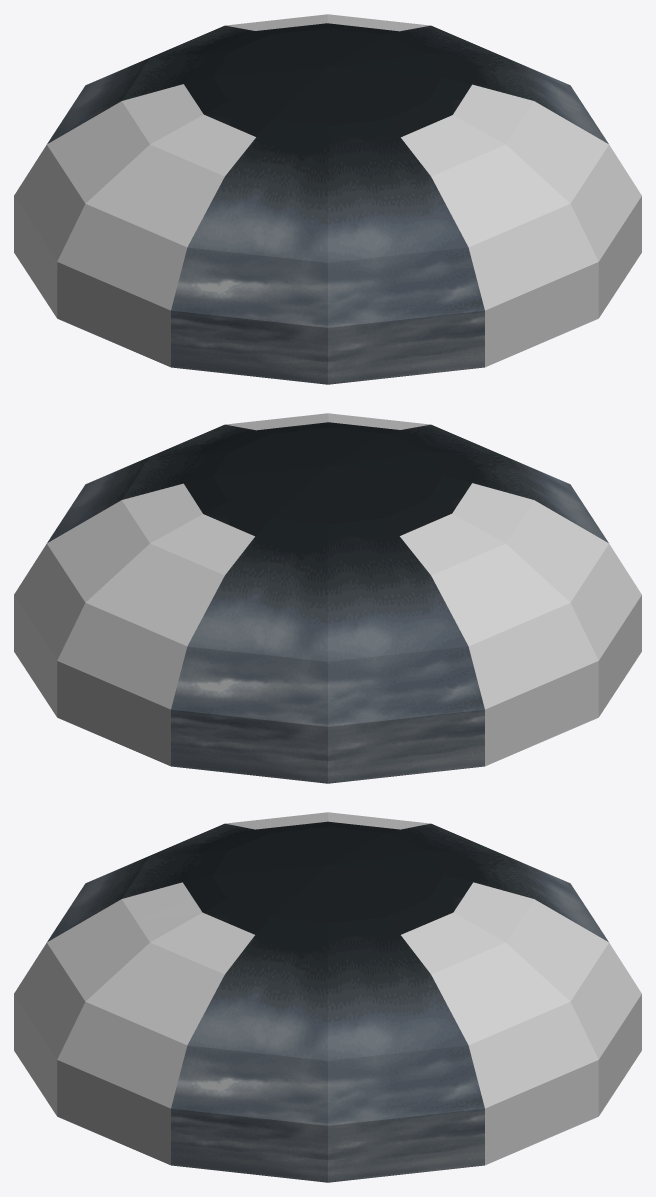
3 renders of one model, top to bottom at view 1: azimuth 30°, elevation 25°; view 2: azimuth 150°, elevation 25°; view 3: azimuth 270°, elevation 25°, orthographic.
Parts seen in each view (by area): view 1: mesh00; view 2: mesh00; view 3: mesh00.
Boxes of the visible parts, x1=… form: mesh00: x1=14, y1=14, x2=641, y2=384; mesh00: x1=14, y1=413, x2=641, y2=783; mesh00: x1=14, y1=812, x2=641, y2=1182.
Bounding box in the file's own units: 117776 × 38296 × 118256.
